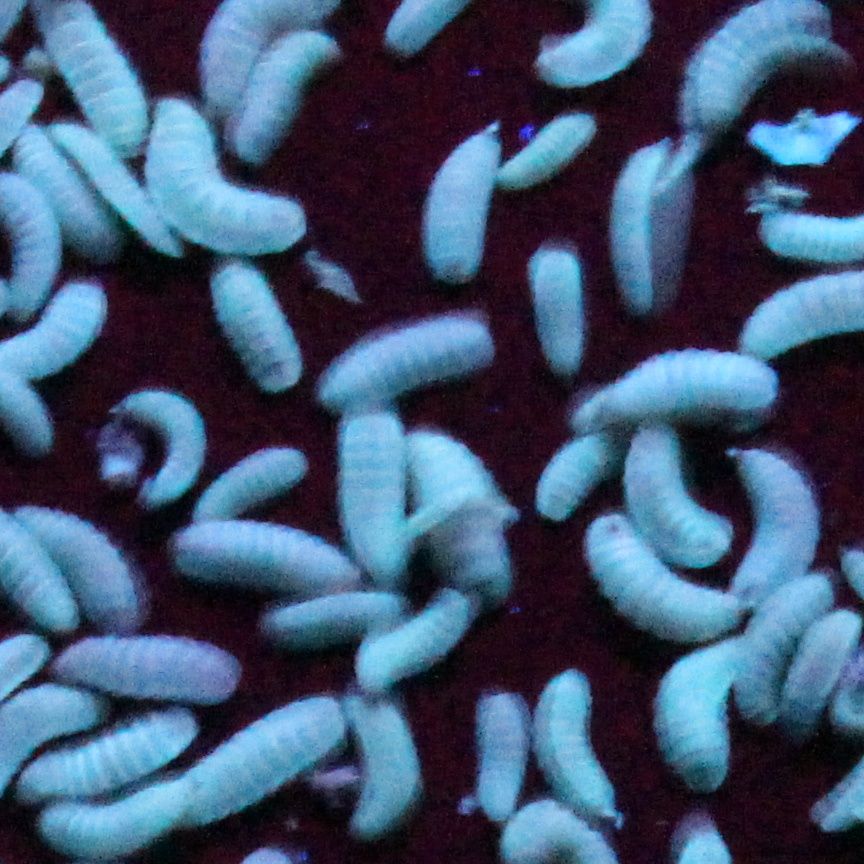larve: (581, 506, 749, 642), (156, 101, 303, 256), (403, 426, 517, 610), (619, 406, 737, 576), (192, 699, 340, 828), (49, 124, 187, 260), (3, 713, 196, 803), (319, 317, 499, 413), (533, 663, 628, 831), (221, 26, 337, 160), (17, 506, 140, 622), (583, 356, 783, 426), (733, 435, 817, 601), (342, 681, 428, 842), (335, 410, 415, 578), (65, 628, 242, 701), (10, 119, 106, 251), (653, 642, 740, 785), (733, 578, 824, 713), (181, 517, 356, 585), (31, 783, 203, 851), (351, 594, 469, 692), (215, 251, 294, 397), (119, 390, 206, 510), (433, 117, 492, 290), (617, 144, 671, 303), (528, 249, 590, 378), (194, 442, 310, 510), (501, 113, 599, 192), (478, 681, 524, 835), (535, 431, 610, 519), (278, 585, 417, 628)
